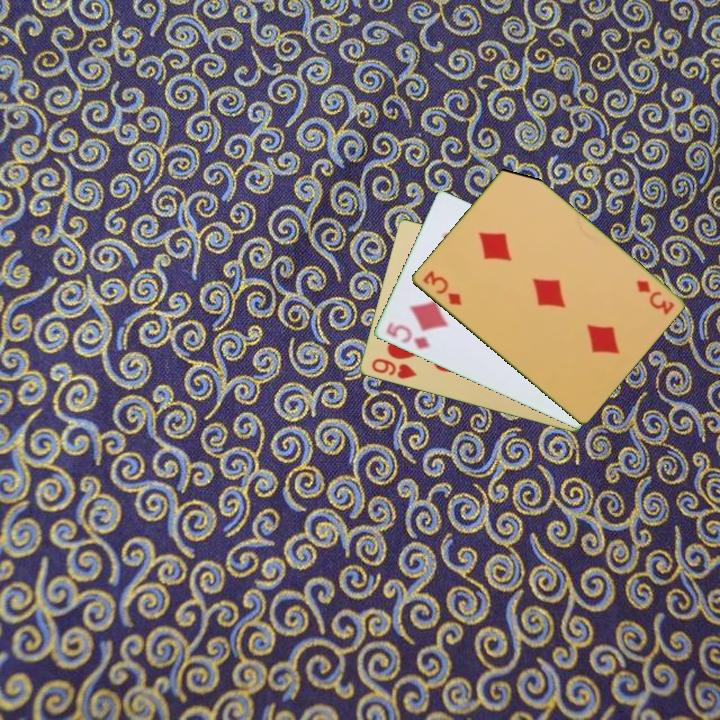3d: (419, 267, 465, 309), (632, 277, 677, 318)
5d: (382, 318, 432, 352)
9h: (368, 355, 419, 382)
